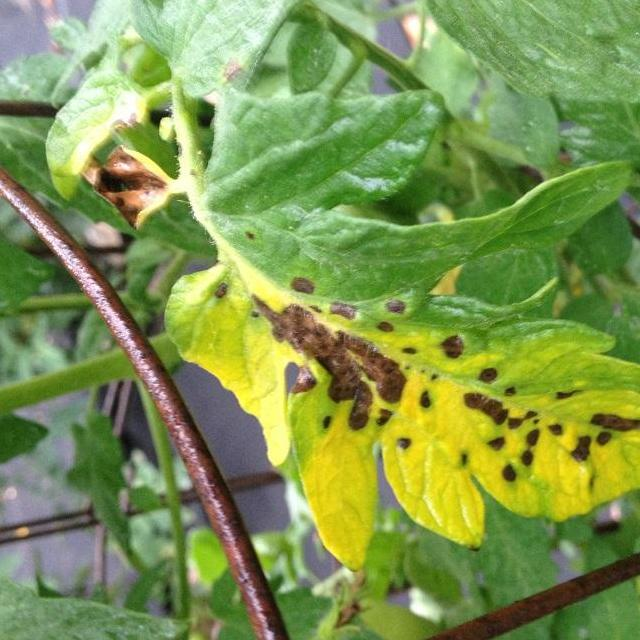Tomato leaf bacterial spot: (148, 232, 640, 573)
